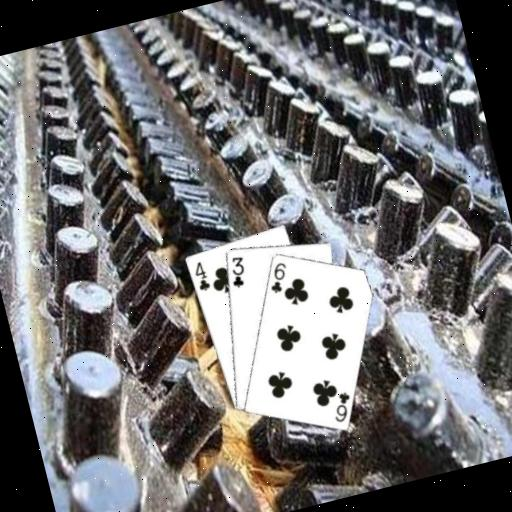3C: (223, 252, 251, 290)
4C: (189, 257, 213, 294)
6C: (262, 259, 293, 296), (326, 388, 357, 425)
